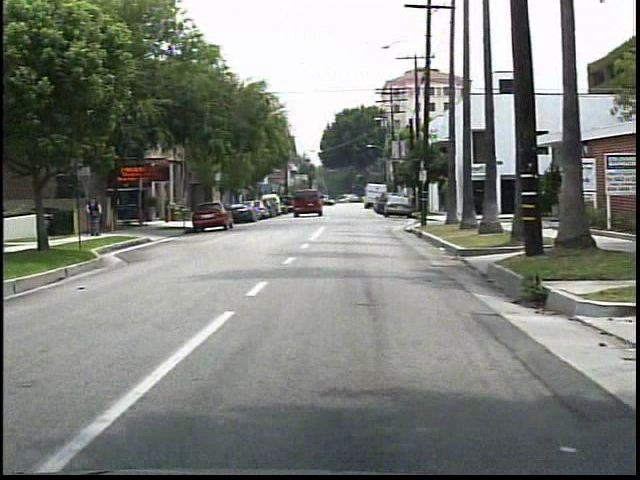person: (80, 192, 105, 239)
